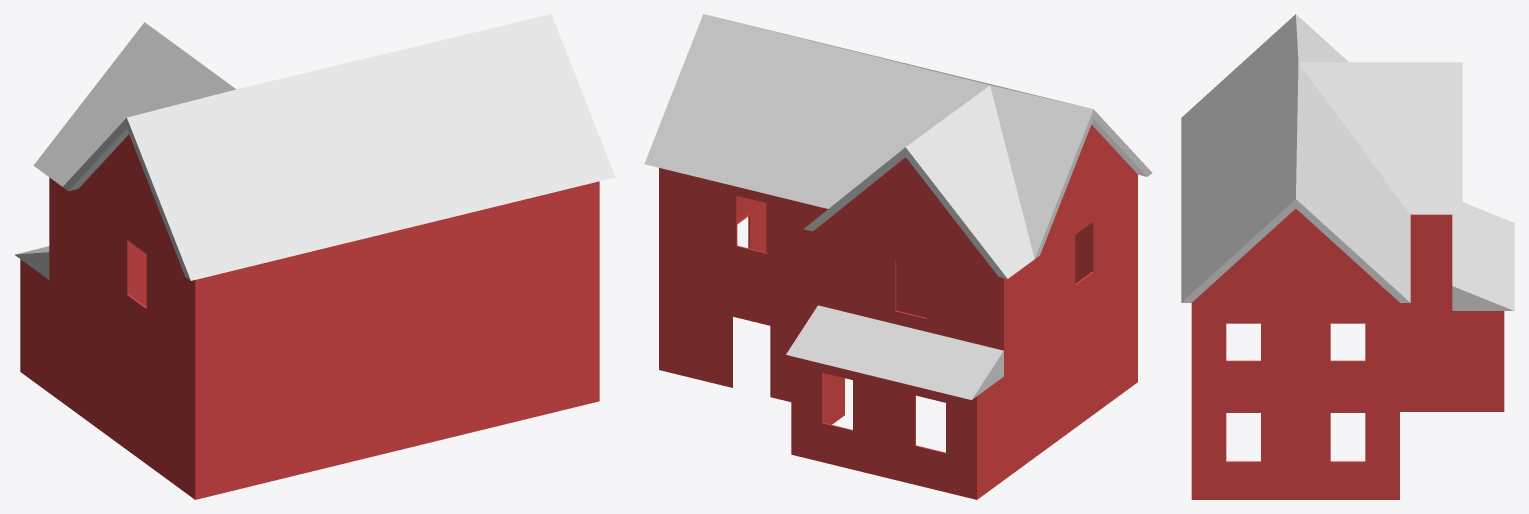
The model's file is Casa_2A2.fbx.
3 renders of one model, left to right at view 1: azimuth 30°, elevation 25°; view 2: azimuth 150°, elevation 25°; view 3: azimuth 270°, elevation 25°, orthographic. The views are drawn at different scales.
Visible parts, largest first — view 1: Casa_2A2; view 2: Casa_2A2; view 3: Casa_2A2.
Boxes of the visible parts, x1,y1,x2,y2 form: Casa_2A2: (15, 14, 615, 499); Casa_2A2: (644, 14, 1152, 499); Casa_2A2: (1181, 14, 1514, 499).
Bounding box in the file's own units: 1260 × 970 × 960.
